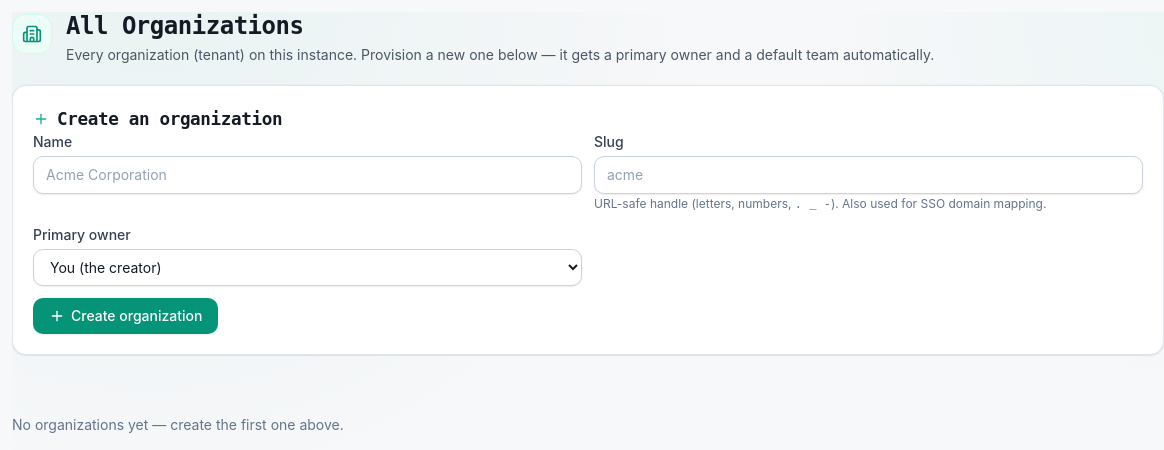
Test: AllOrganizationsPage › shows a friendly error when creation fails
The width and height of the screenshot is (1164, 450).
Expected: the text "No organizations yet — create the first one above." is shown, [12,416,344,433]
Type "Widget Co" into the field with placeholder "Acme Corporation" at {"x": 308, "y": 175}, box [33,156,582,194]
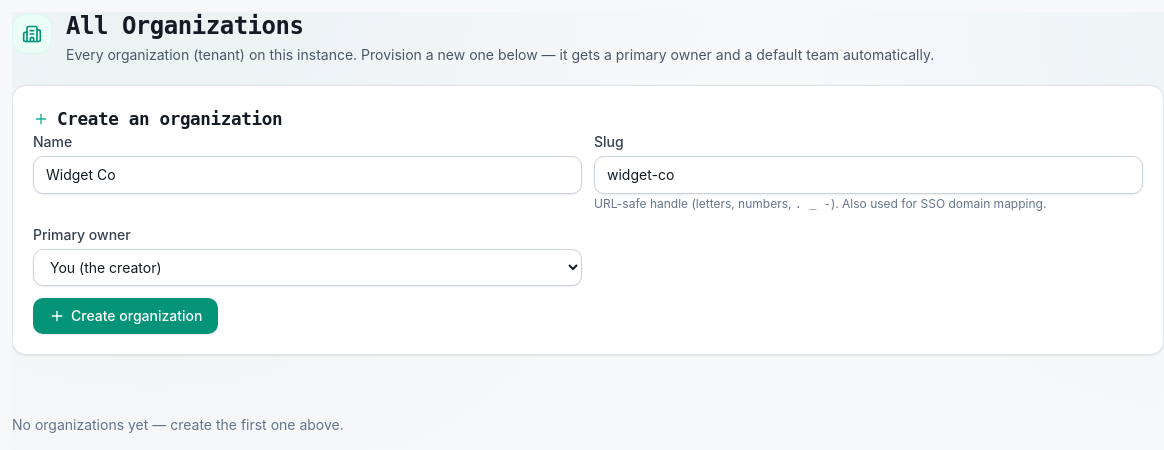
Click the button "Create organization" at {"x": 126, "y": 316}, box [33,298,218,334]
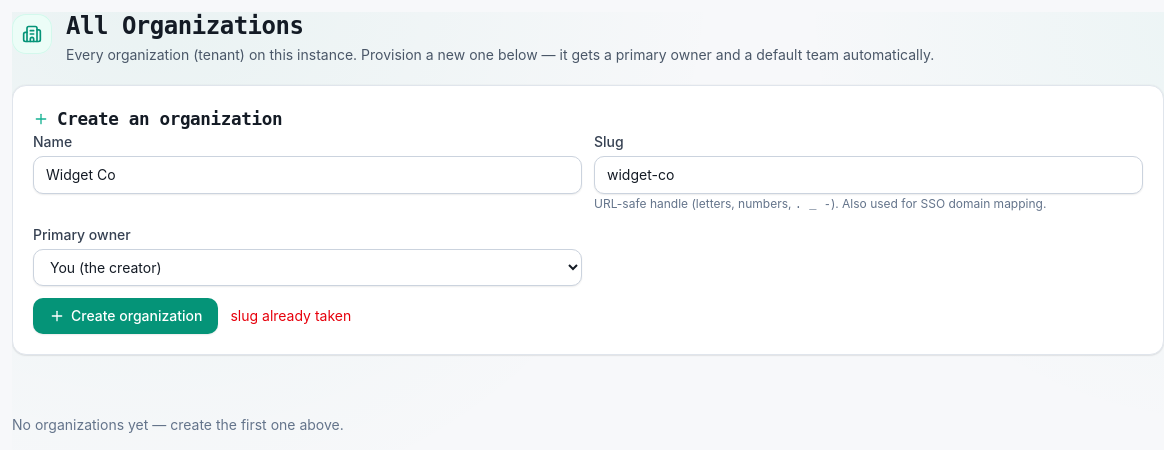
Result: the text "slug already taken" is shown at [230,306,351,326]
